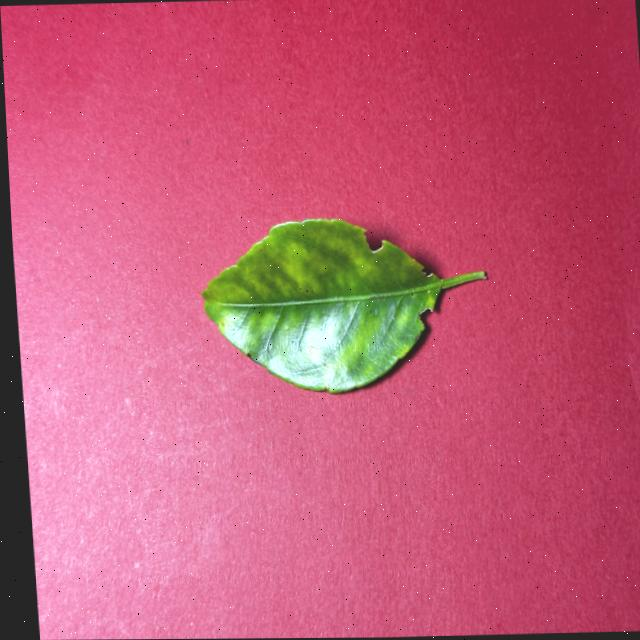greening: (201, 219, 484, 392)
